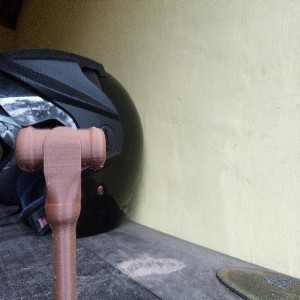palu: (14, 125, 107, 300)
